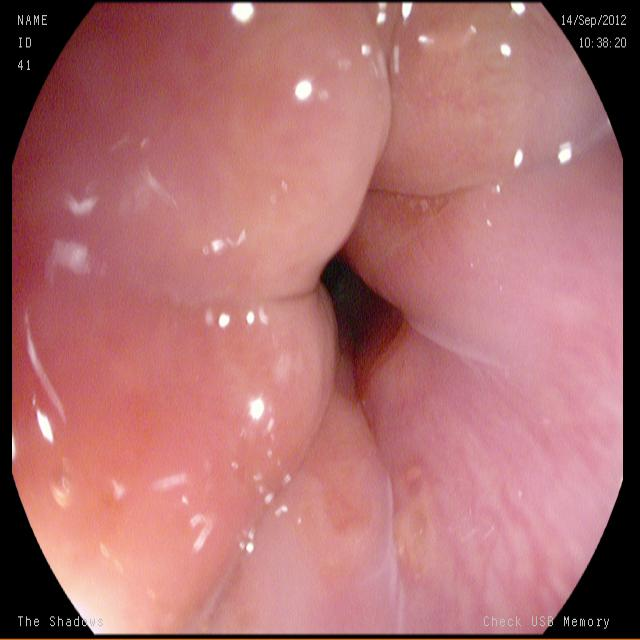Normal-Z-Line: (88, 0, 535, 612)
